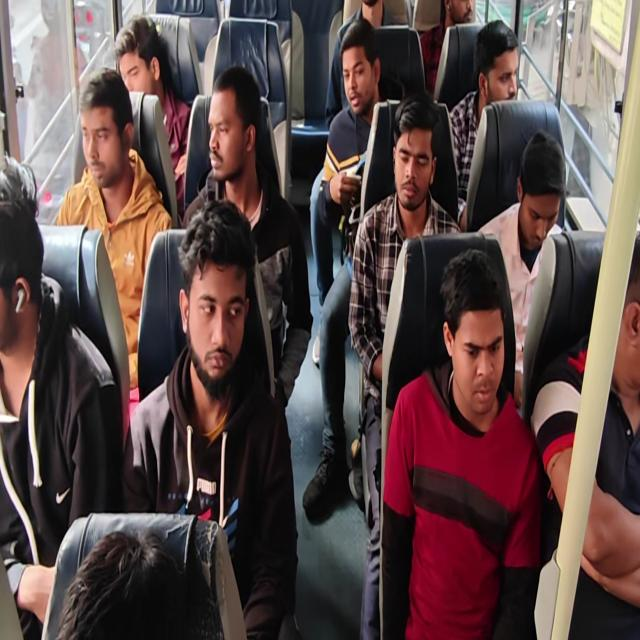person: (1, 2, 638, 638), (121, 198, 299, 638), (379, 247, 542, 638), (348, 91, 462, 638), (0, 157, 123, 638), (302, 18, 400, 517), (180, 64, 313, 410), (530, 230, 639, 638), (55, 67, 172, 401), (477, 128, 566, 408), (315, 18, 394, 302), (113, 15, 192, 221), (448, 19, 520, 230), (56, 528, 186, 638), (22, 0, 87, 196), (324, 0, 408, 129), (418, 0, 474, 99)
